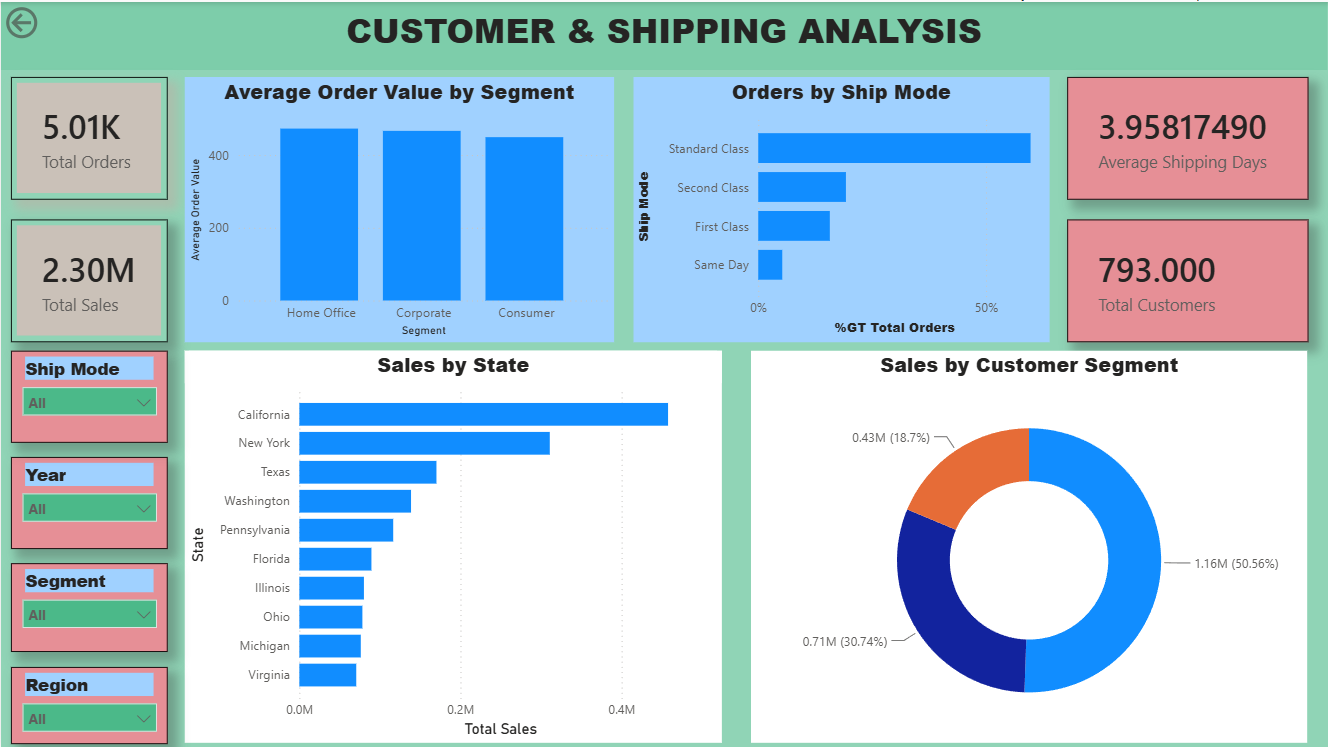

The dashboard page shown, as its layout file describes it:
{"tool":"powerbi","page":{"name":"CUSTOMER & SHIPPING ANALYSIS","canvas":[1280,720],"ordinal":2},"visuals":[{"type":"cardVisual","fields":{"Data":["Superstore.Total Customers"]},"box":[1028.6,210,232.9,118.6],"z":0},{"type":"cardVisual","fields":{"Data":["Superstore.Total Orders"]},"box":[10,72.9,151.4,118.6],"z":1000},{"type":"cardVisual","fields":{"Data":["Superstore.Total Sales"]},"box":[10,210,151.4,118.6],"z":2000},{"type":"cardVisual","fields":{"Data":["Superstore.Average Shipping Days"]},"box":[1028.6,72.9,232.9,118.6],"z":3000},{"type":"actionButton","box":[0,0,100,40],"z":4000},{"type":"clusteredBarChart","title":"Sales by State","fields":{"Category":["Superstore.State"],"Y":["Superstore.Total Sales"]},"box":[177.1,337.1,518.6,378.6],"z":5000},{"type":"donutChart","title":"Sales by Customer Segment","fields":{"Category":["Superstore.Segment"],"Y":["Superstore.Total Sales"]},"box":[724.3,337.1,537.1,378.6],"z":6000},{"type":"clusteredBarChart","title":"Orders by Ship Mode","fields":{"Category":["Superstore.Ship Mode"],"Y":["Superstore.Total Orders"]},"box":[610,72.9,401.4,255.7],"z":7000},{"type":"clusteredColumnChart","title":"Average Order Value by Segment","fields":{"Category":["Superstore.Segment"],"Y":["Superstore.Average Order Value"]},"box":[177.1,72.9,414.3,255.7],"z":8000},{"type":"slicer","fields":{"Values":["Superstore.Year"]},"box":[10,438.6,151.4,88.6],"z":8001},{"type":"slicer","fields":{"Values":["Superstore.Segment"]},"box":[10,541.4,151.4,85.7],"z":8002},{"type":"slicer","fields":{"Values":["Superstore.Region"]},"box":[10,641.4,151.4,74.3],"z":8003},{"type":"slicer","fields":{"Values":["Superstore.Ship Mode"]},"box":[10,337.1,151.4,88.6],"z":8004},{"type":"textbox","box":[0,0,1280,65.7],"z":8005}]}

Visuals, with their boxes in screenshot pixels (x1, y1, x2, y2), scaled from the page's 1280x720 canvas onto the 1328x747 screenshot:
cardVisual - Superstore.Total Customers: <box>1067,218,1309,341</box>
cardVisual - Superstore.Total Orders: <box>10,76,167,199</box>
cardVisual - Superstore.Total Sales: <box>10,218,167,341</box>
cardVisual - Superstore.Average Shipping Days: <box>1067,76,1309,199</box>
actionButton: <box>0,0,104,42</box>
"Sales by State" clusteredBarChart: <box>184,350,722,743</box>
"Sales by Customer Segment" donutChart: <box>751,350,1309,743</box>
"Orders by Ship Mode" clusteredBarChart: <box>633,76,1049,341</box>
"Average Order Value by Segment" clusteredColumnChart: <box>184,76,614,341</box>
slicer - Superstore.Year: <box>10,455,167,547</box>
slicer - Superstore.Segment: <box>10,562,167,651</box>
slicer - Superstore.Region: <box>10,665,167,743</box>
slicer - Superstore.Ship Mode: <box>10,350,167,442</box>
textbox: <box>0,0,1327,68</box>
